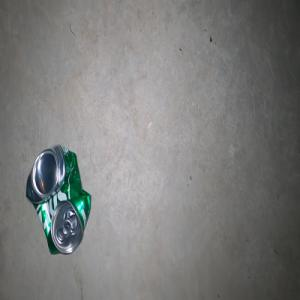SodaCan: (25, 144, 91, 254)
